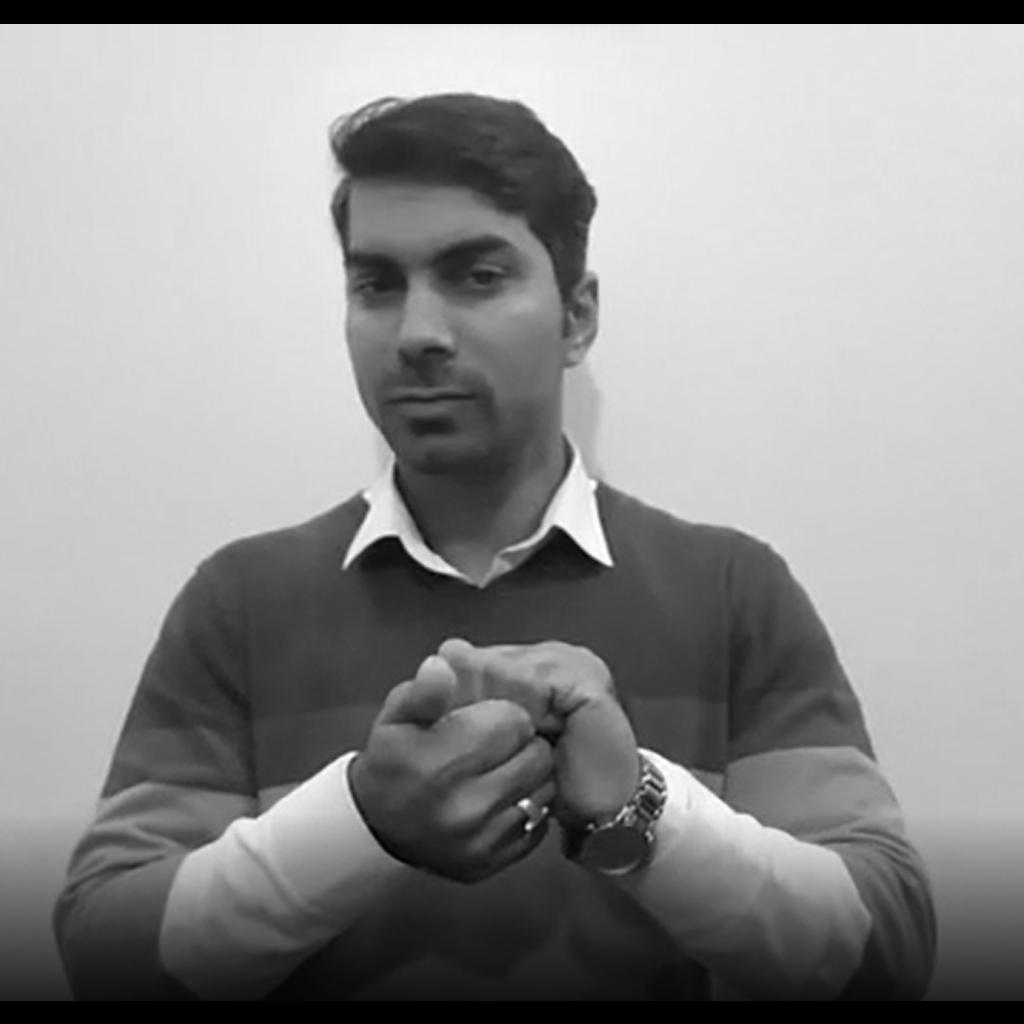how: (366, 638, 638, 884)
